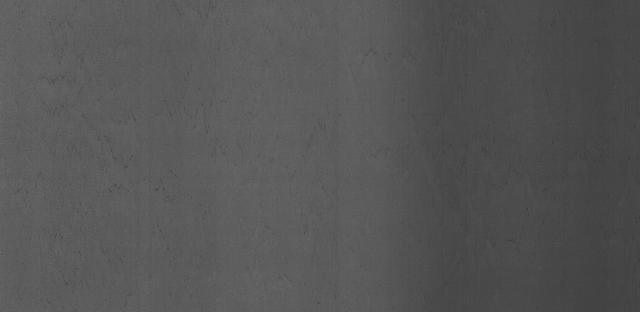silk_spot: (17, 34, 168, 196)
